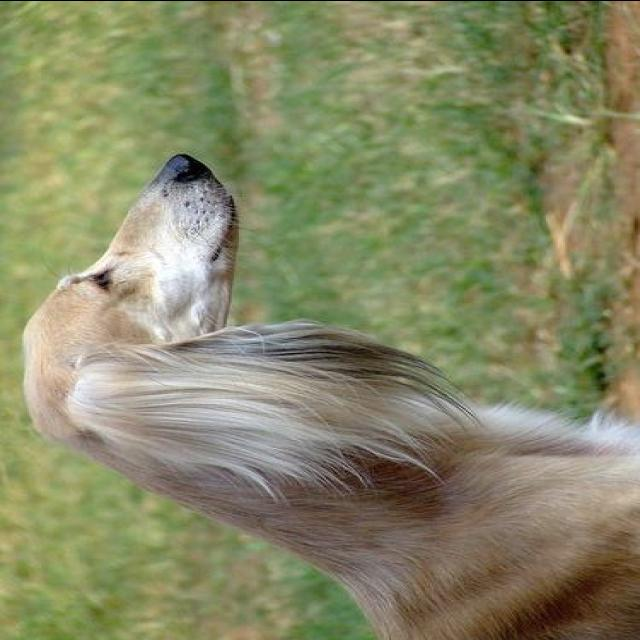saluki: (24, 151, 638, 639)
